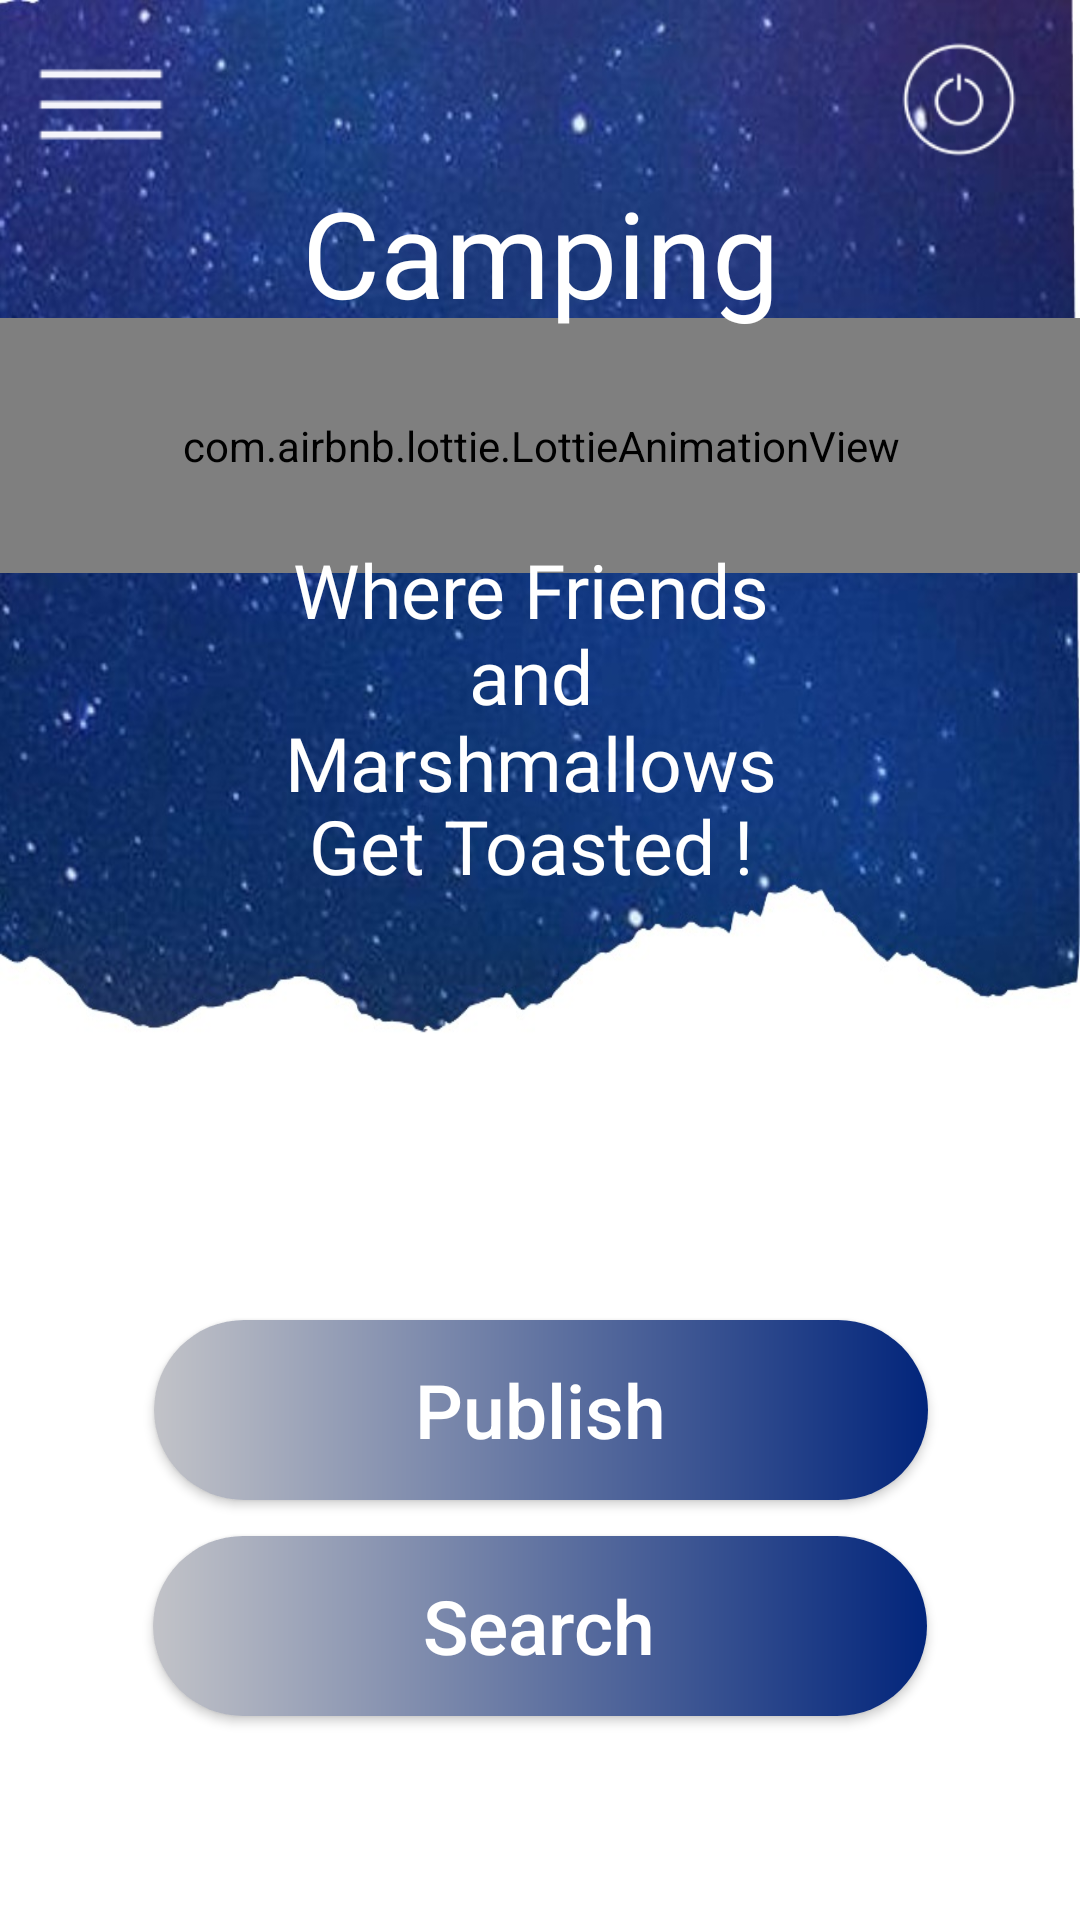

Where icons sit on this 1080 x 1920 app screen, as (x1, y1, x2, y2):
navigation: (39, 40, 167, 172)
